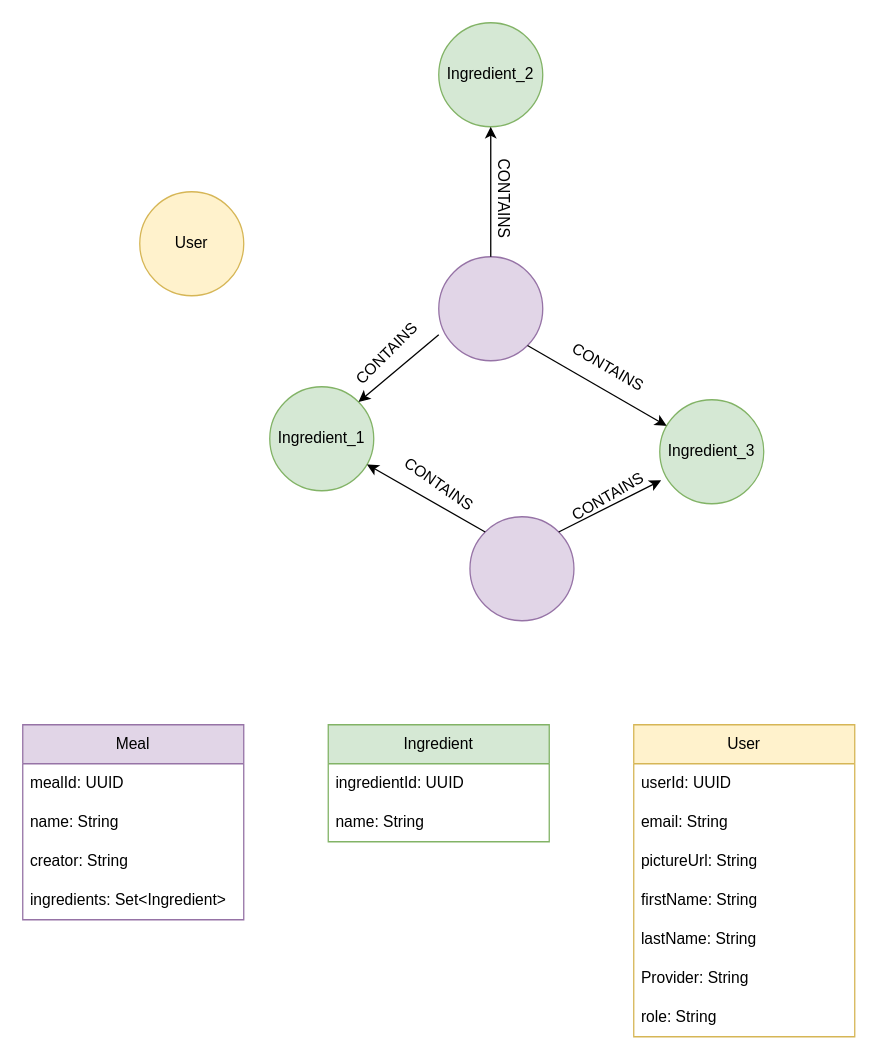
Some shapes in this 877 by 1060 pixel diagram are drawn without their labels. The centre of each missing label's shape, as x and y in pixels:
Meal_1: the point at 490,308
Meal_2: the point at 521,568
